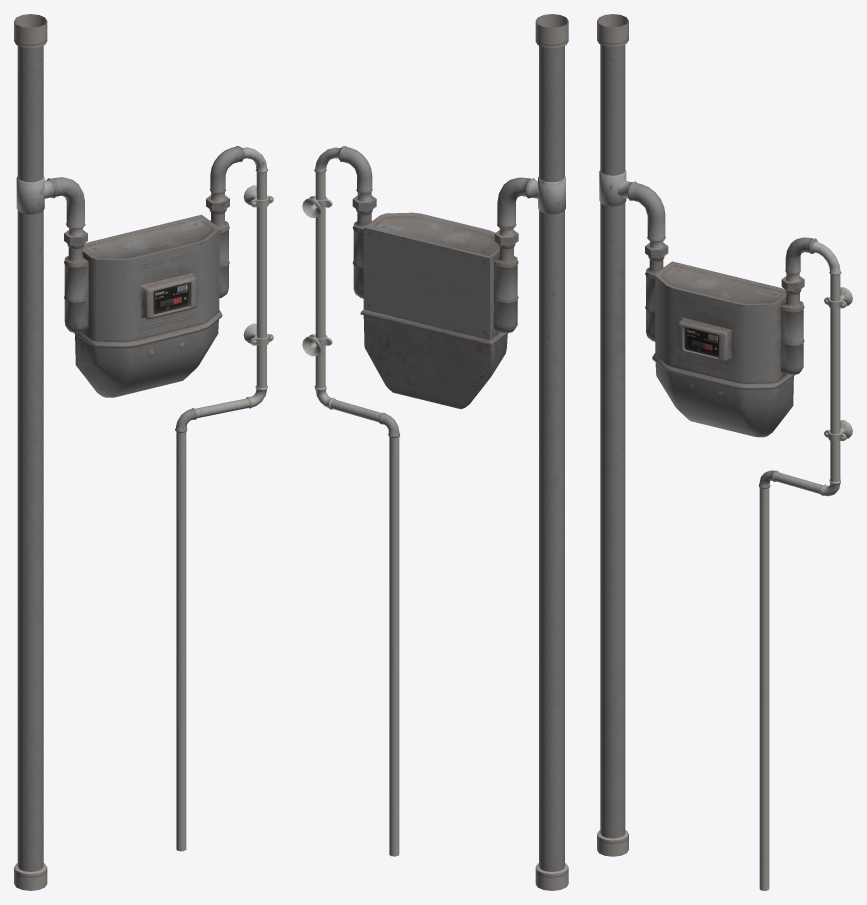
The model's file is pipes.fbx.
The picture shows the model from 3 angles, left to right: view 1: azimuth 30°, elevation 25°; view 2: azimuth 150°, elevation 25°; view 3: azimuth 330°, elevation 25°; orthographic projection. The views are drawn at different scales.
Visible parts, largest first — view 1: Pipes_Kitchen_A; view 2: Pipes_Kitchen_A; view 3: Pipes_Kitchen_A.
Boxes of the visible parts, <box> form: Pipes_Kitchen_A: <box>14,14,273,890</box>; Pipes_Kitchen_A: <box>302,14,568,890</box>; Pipes_Kitchen_A: <box>597,14,852,890</box>.
Bounding box in the file's own units: 0.2566 × 3.53 × 1.09.
